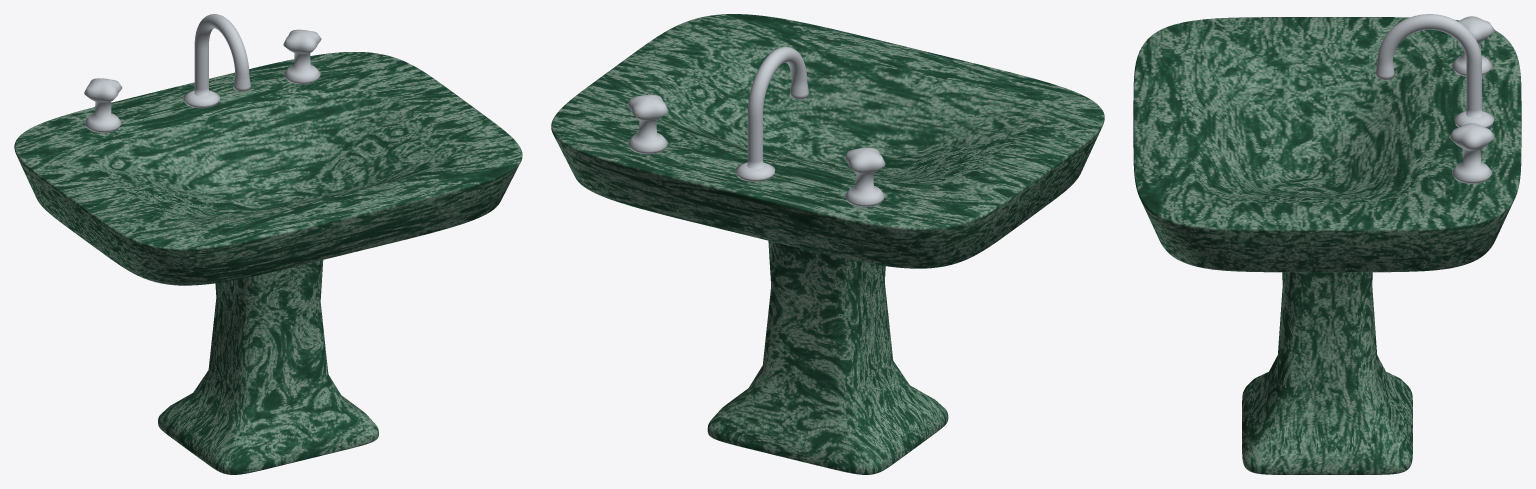
3 renders of one model, left to right at view 1: azimuth 30°, elevation 25°; view 2: azimuth 150°, elevation 25°; view 3: azimuth 270°, elevation 25°, orthographic. The views are drawn at different scales.
Parts seen in each view (by area): view 1: basin_body, pedestal_support, faucet_handle, gooseneck_spout; view 2: basin_body, pedestal_support, faucet_handle, gooseneck_spout; view 3: basin_body, pedestal_support, gooseneck_spout, faucet_handle.
Part boxes in pixels (left/top/right/bottom): basin_body: left=14, top=52, right=522, bottom=285; pedestal_support: left=158, top=260, right=378, bottom=474; faucet_handle: left=84, top=29, right=321, bottom=132; gooseneck_spout: left=183, top=14, right=251, bottom=108; basin_body: left=551, top=14, right=1104, bottom=268; pedestal_support: left=707, top=240, right=948, bottom=474; faucet_handle: left=627, top=94, right=885, bottom=207; gooseneck_spout: left=735, top=47, right=809, bottom=181; basin_body: left=1133, top=17, right=1521, bottom=272; pedestal_support: left=1242, top=272, right=1412, bottom=474; gooseneck_spout: left=1375, top=14, right=1494, bottom=128; faucet_handle: left=1449, top=16, right=1494, bottom=183.
Size of the model in its own units: 5.42 by 4.97 by 4.18.
4 materials, 2 textured.
